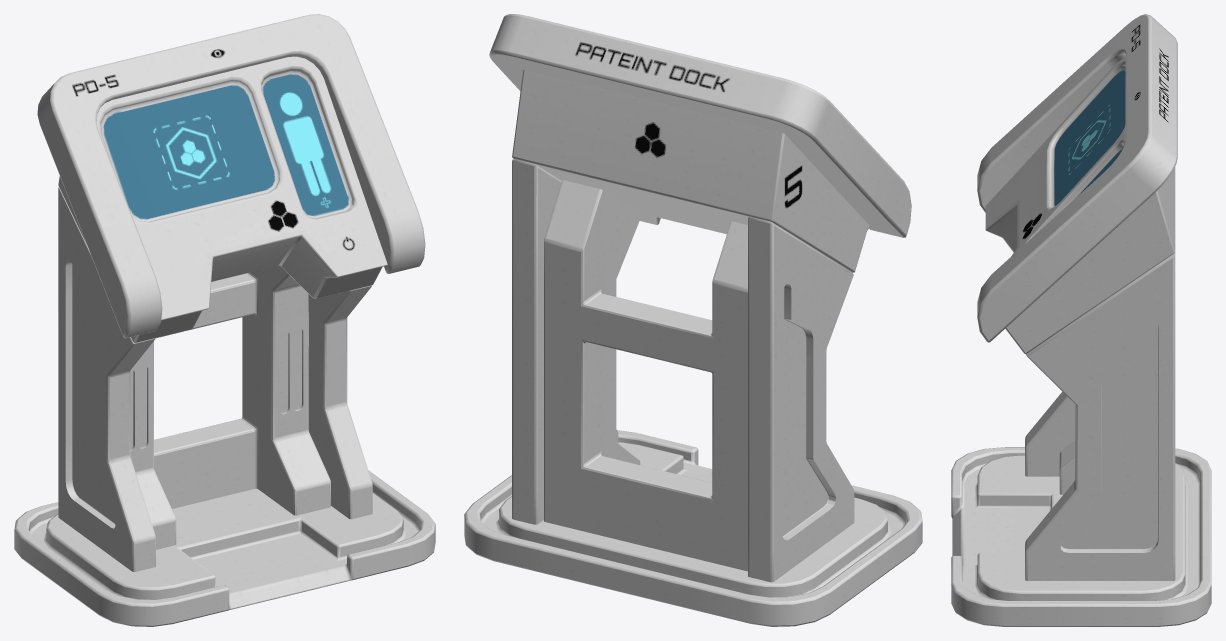
3 renders of one model, left to right at view 1: azimuth 30°, elevation 25°; view 2: azimuth 150°, elevation 25°; view 3: azimuth 270°, elevation 25°, orthographic. The views are drawn at different scales.
Visible parts, largest first — view 1: Display Unit.001_0; view 2: Display Unit.001_0; view 3: Display Unit.001_0.
Boxes of the visible parts, x1,y1,x2,y2 form: Display Unit.001_0: (14,14,435,626); Display Unit.001_0: (464,14,922,626); Display Unit.001_0: (951,14,1211,626).
Size of the model in its own units: 2.21 by 3.07 by 1.54.
Materials: 1 (1 with a texture image).
